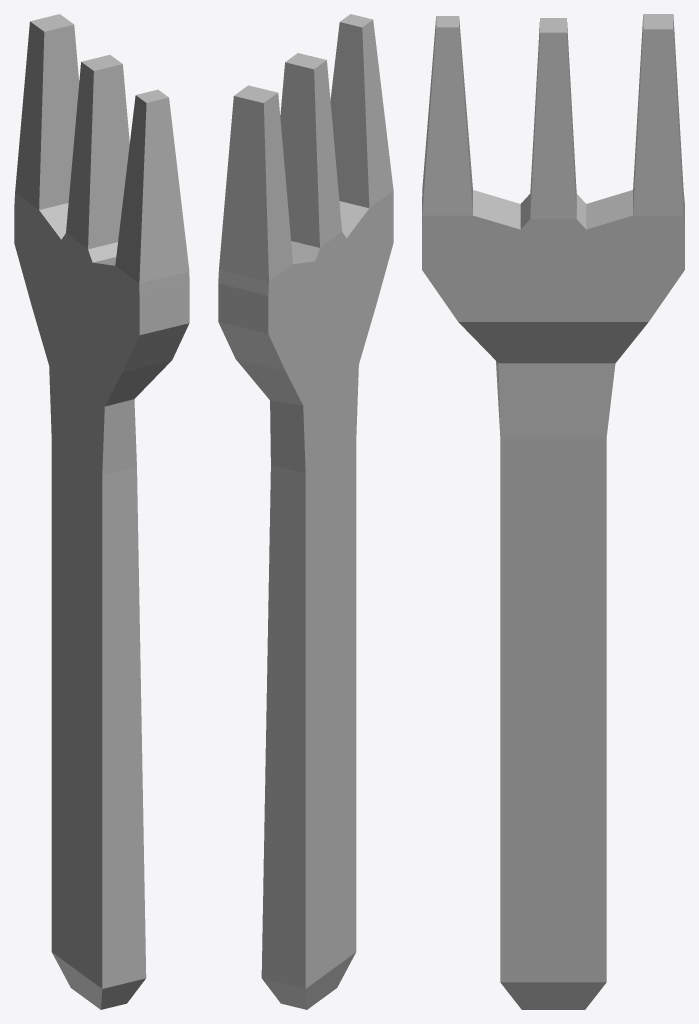
File: tenedor.fbx
3 views of the same model, side by side, from view 1: azimuth 30°, elevation 25°; view 2: azimuth 150°, elevation 25°; view 3: azimuth 270°, elevation 25° (orthographic). The views are drawn at different scales.
Parts seen in each view (by area): view 1: Cube; view 2: Cube; view 3: Cube.
Boxes of the visible parts, x1=… form: Cube: x1=14, y1=14, x2=189, y2=1009; Cube: x1=218, y1=14, x2=393, y2=1009; Cube: x1=422, y1=14, x2=684, y2=1009.
Bounding box in the file's own units: 21.61 × 386 × 93.59.
